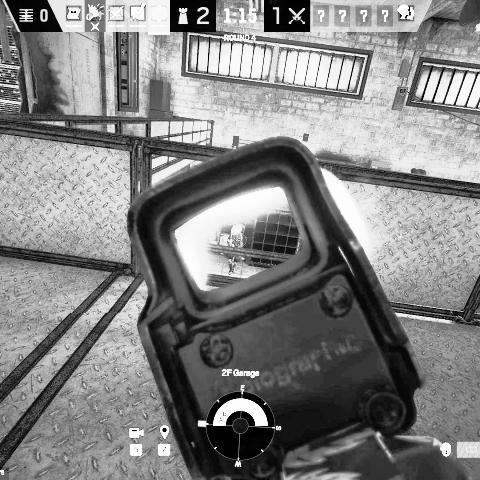Character: (227, 227, 245, 276)
Head: (231, 226, 239, 236)
